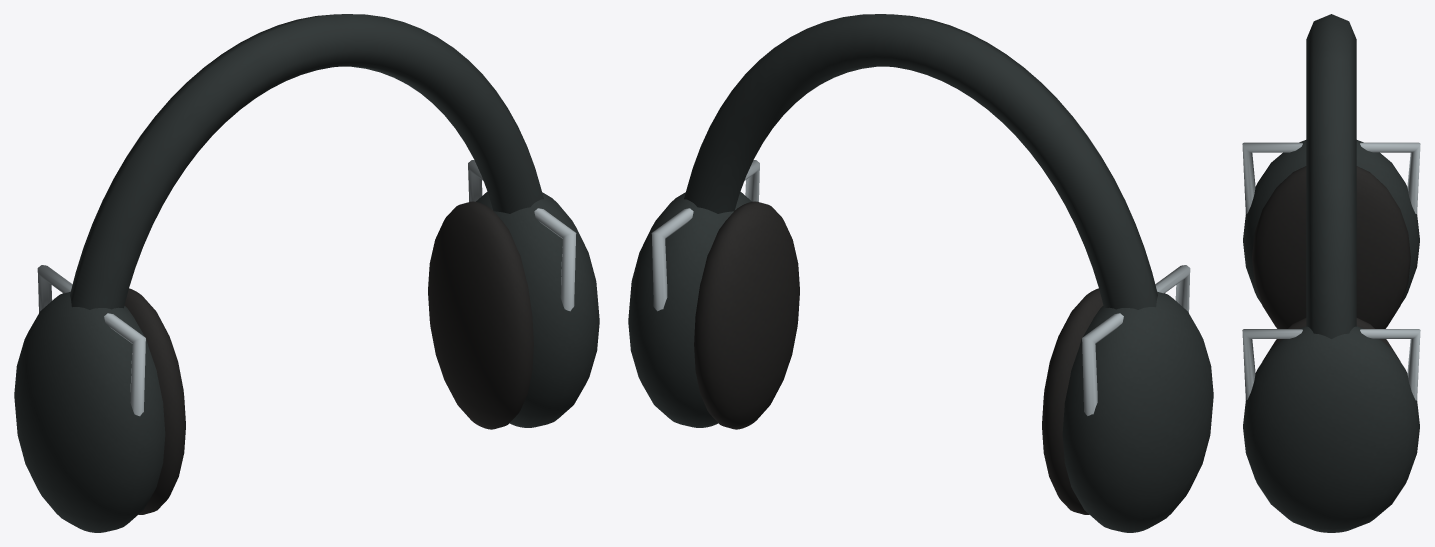
File: studio-headphones.glb
3 views of the same model, side by side, from view 1: azimuth 30°, elevation 25°; view 2: azimuth 150°, elevation 25°; view 3: azimuth 270°, elevation 25° (orthographic). The views are drawn at different scales.
Visible parts, largest first — view 1: Padded headband arch, Ear cup outer shell, Soft ear cushion.001, Ear cup outer shell.001, Soft ear cushion, Ear cup metal yoke, Ear cup metal yoke.001; view 2: Padded headband arch, Ear cup outer shell, Soft ear cushion.001, Ear cup outer shell.001, Soft ear cushion, Ear cup metal yoke, Ear cup metal yoke.001; view 3: Ear cup outer shell.001, Padded headband arch, Soft ear cushion, Ear cup outer shell, Ear cup metal yoke, Ear cup metal yoke.001, Soft ear cushion.001.
Boxes of the visible parts, x1,y1,x2,y2 form: Padded headband arch: (70,14,543,309); Ear cup outer shell: (14,291,165,532); Soft ear cushion.001: (428,201,533,429); Ear cup outer shell.001: (476,192,599,427); Soft ear cushion: (124,288,185,514); Ear cup metal yoke: (37,265,145,416); Ear cup metal yoke.001: (468,160,576,311); Padded headband arch: (684,14,1157,309); Ear cup outer shell: (1062,291,1213,532); Soft ear cushion.001: (694,201,799,429); Ear cup outer shell.001: (628,192,751,427); Soft ear cushion: (1042,288,1103,514); Ear cup metal yoke: (1082,265,1190,415); Ear cup metal yoke.001: (651,160,759,311); Ear cup outer shell.001: (1243,326,1419,532); Padded headband arch: (1306,14,1356,338); Soft ear cushion: (1252,166,1410,328); Ear cup outer shell: (1243,140,1419,303); Ear cup metal yoke: (1242,142,1420,213); Ear cup metal yoke.001: (1242,329,1420,400); Soft ear cushion.001: (1262,318,1400,361).
Bounding box in the file's own units: 0.248 × 0.196 × 0.0784.
3 materials, 3 textured.
